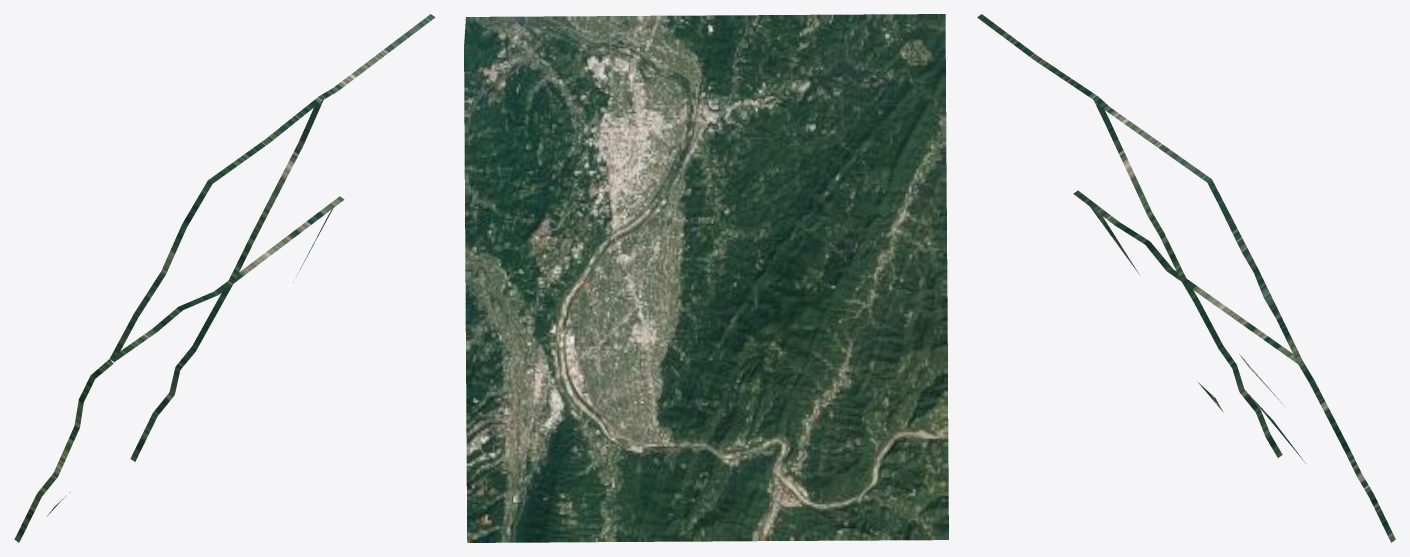
The picture shows the model from 3 angles, left to right: view 1: azimuth 30°, elevation 25°; view 2: azimuth 150°, elevation 25°; view 3: azimuth 270°, elevation 25°; orthographic projection. The views are drawn at different scales.
Bounding box in the file's own units: 19963 × 17868 × 16563.
1 material, 1 textured.
